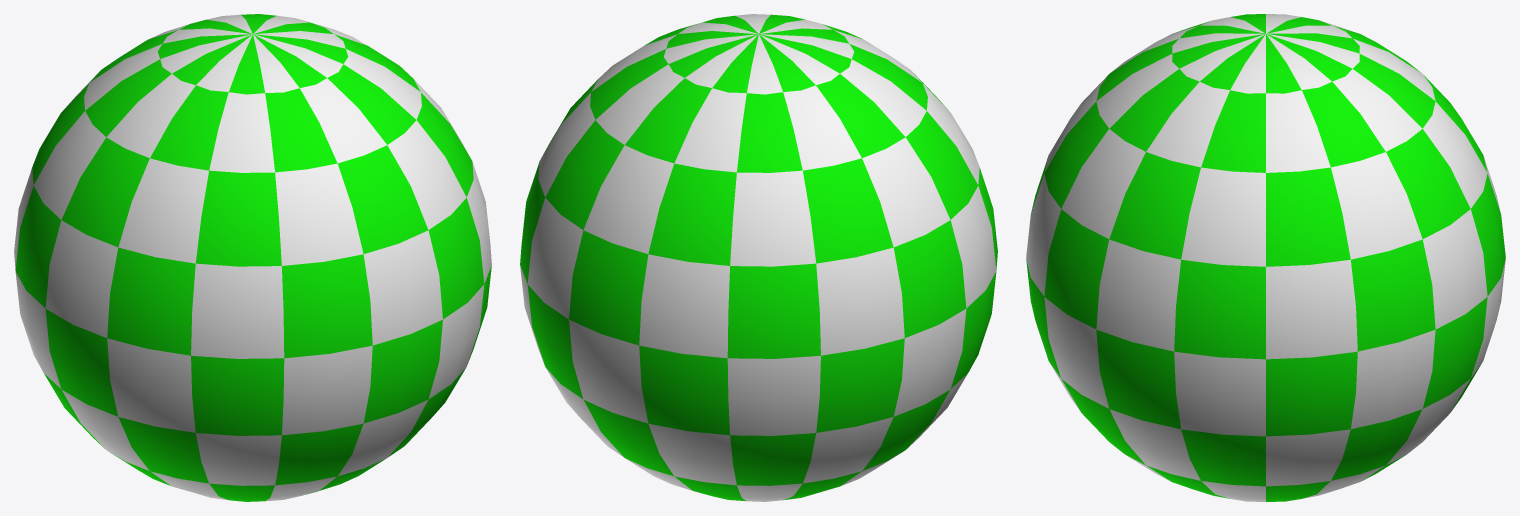
File: Smooth_Green.fbx
3 views of the same model, side by side, from view 1: azimuth 30°, elevation 25°; view 2: azimuth 150°, elevation 25°; view 3: azimuth 270°, elevation 25° (orthographic).
Visible parts, largest first — view 1: smooth_green; view 2: smooth_green; view 3: smooth_green.
Part boxes in pixels (x1,y1,x2,y2): smooth_green: (14,14,491,501); smooth_green: (520,14,997,501); smooth_green: (1026,14,1505,501).
Size of the model in its own units: 1.92 by 1.98 by 1.92.
